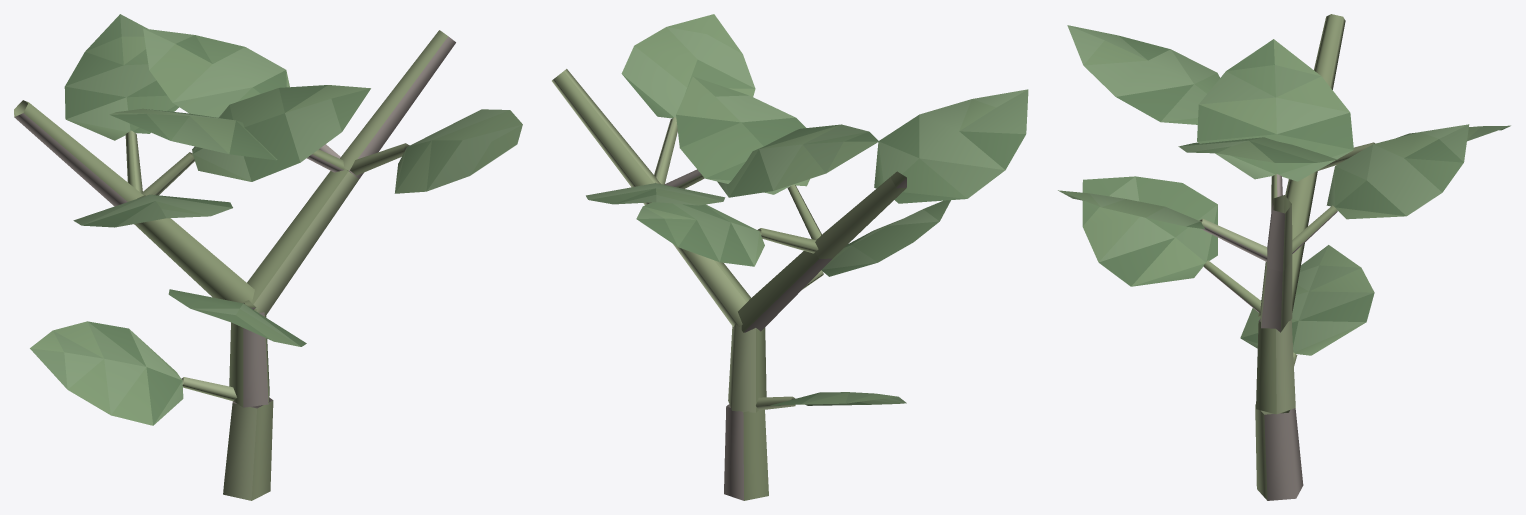
The model's file is aubergine_jeune.glb.
3 renders of one model, left to right at view 1: azimuth 30°, elevation 25°; view 2: azimuth 150°, elevation 25°; view 3: azimuth 270°, elevation 25°, orthographic. The views are drawn at different scales.
Parts seen in each view (by area): view 1: Aubergine_Feuilles, Aubergine_Tiges; view 2: Aubergine_Feuilles, Aubergine_Tiges; view 3: Aubergine_Feuilles, Aubergine_Tiges.
Boxes of the visible parts, <box> form: Aubergine_Feuilles: <box>30,14,522,425</box>; Aubergine_Tiges: <box>14,30,455,500</box>; Aubergine_Feuilles: <box>586,14,1028,405</box>; Aubergine_Tiges: <box>552,69,906,500</box>; Aubergine_Feuilles: <box>1058,25,1510,355</box>; Aubergine_Tiges: <box>1199,14,1375,500</box>.
Bounding box in the file's own units: 0.2682 × 0.2467 × 0.2594.
